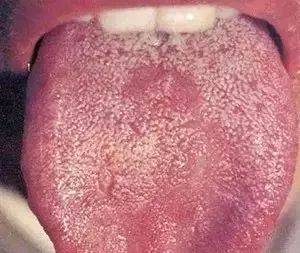baitaishe: (21, 20, 298, 253)
hongshe: (21, 20, 298, 253)
